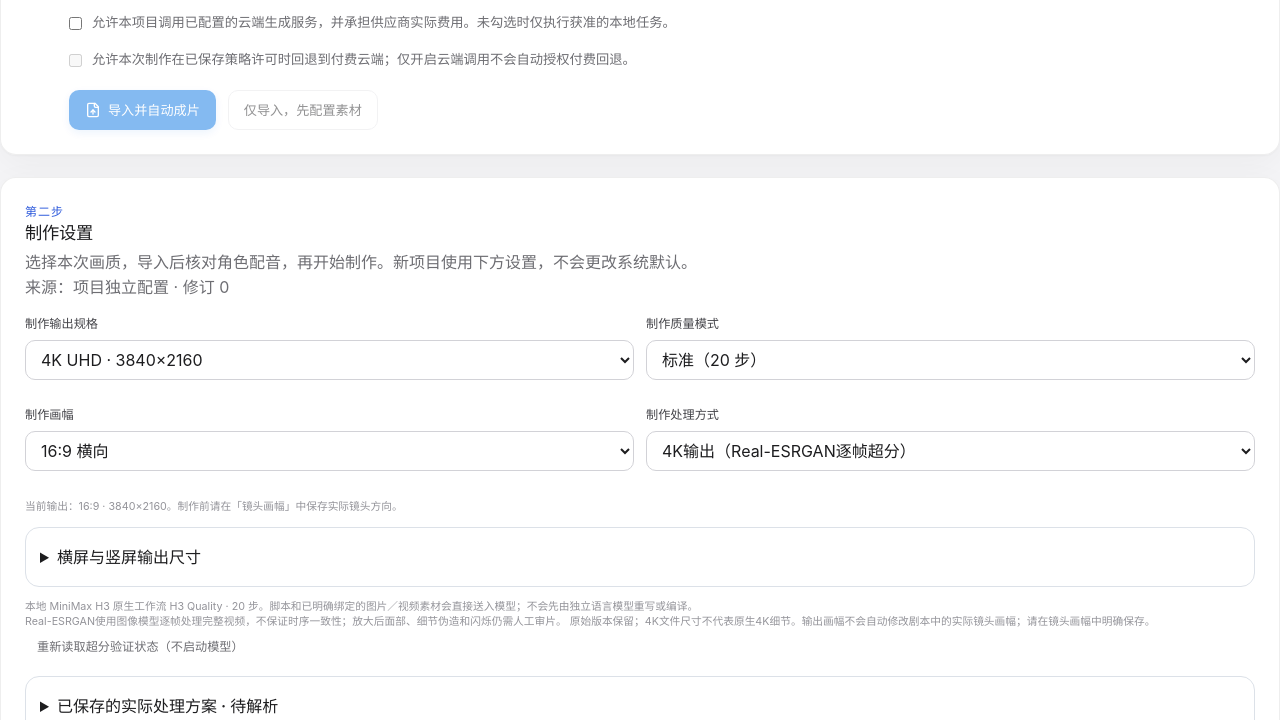
keeps unsupported AI fields editable so the user can explicitly recover to Lanczos
The image size is (1280, 720).
(page scrolled)
Select "1080p · 1920×1080 · 当前处理方式未验证" in the dropdown labelled "制作输出规格": (330, 360) x1=25 y1=340 x2=634 y2=380
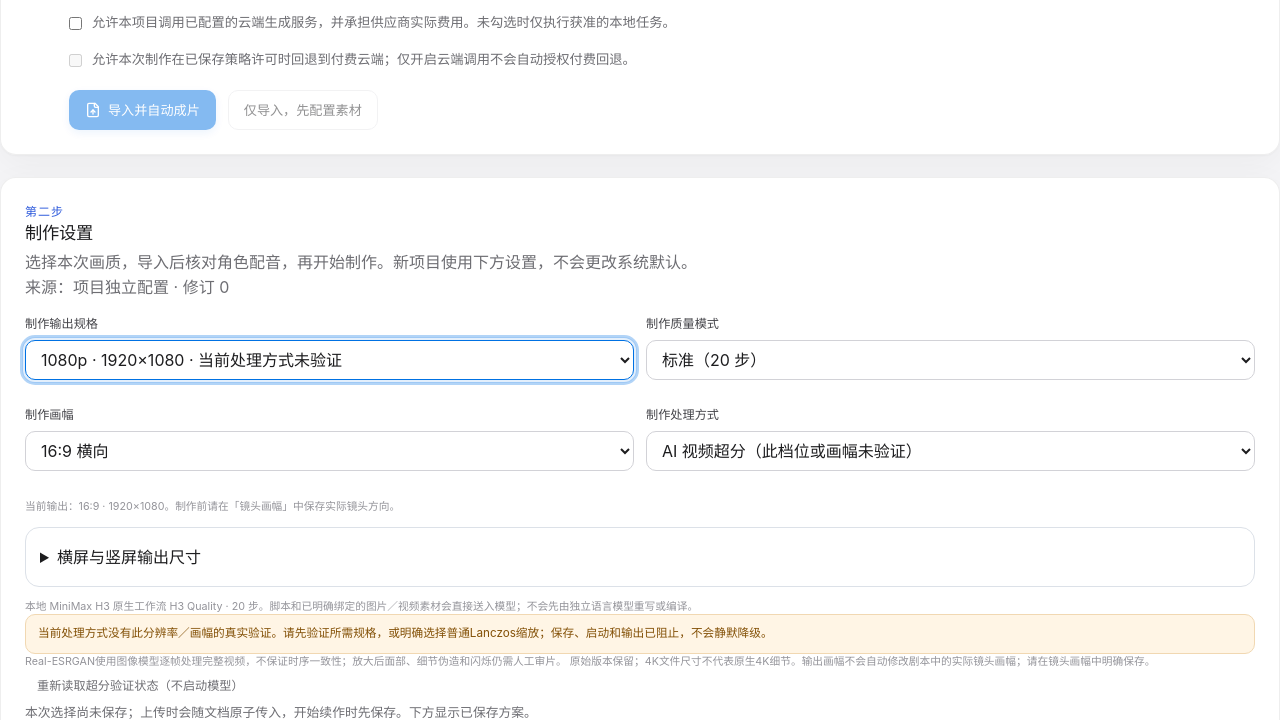
Result: the message shows "不会静默降级" at x1=38 y1=626 x2=773 y2=640
Select "普通 Lanczos 缩放（已接入）" in the dropdown labelled "制作处理方式": (950, 451) x1=646 y1=431 x2=1255 y2=471
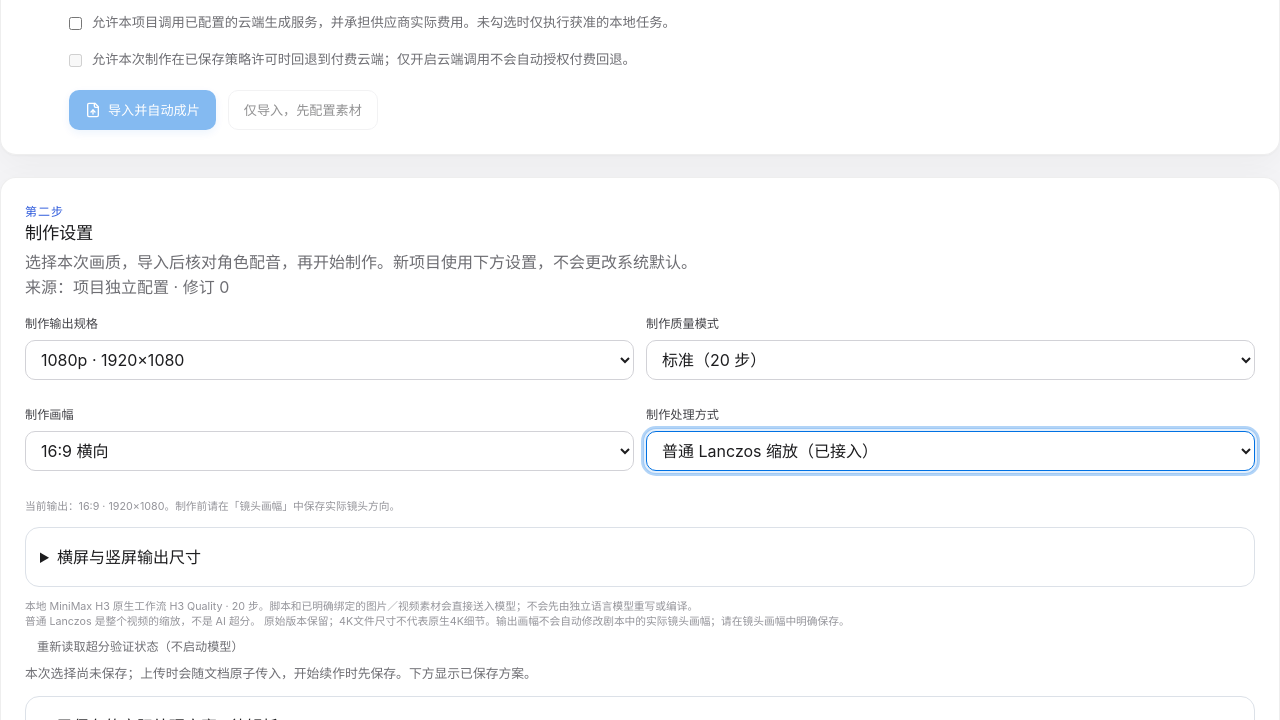
Result: the message "当前处理方式没有此分辨率／画幅的真实验证。请先验证所需规格，或明确选择普通Lanczos缩放；保存、启动和输出已阻止，不会静默降级。" is gone
